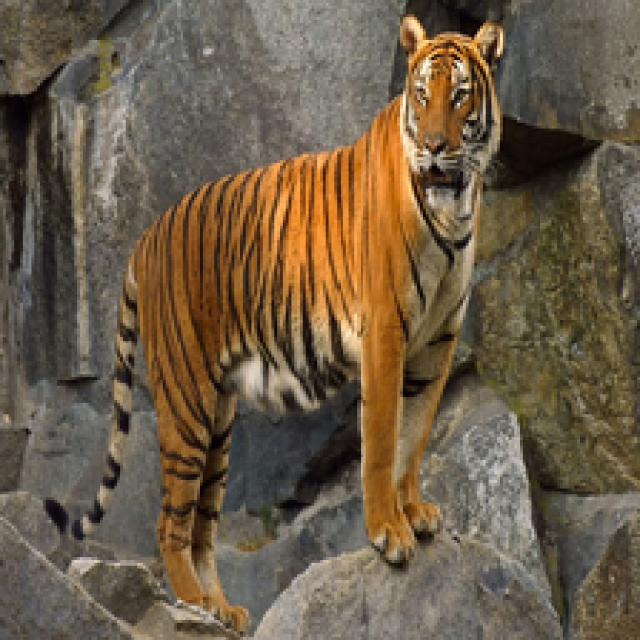tiger: (113, 11, 570, 619)
